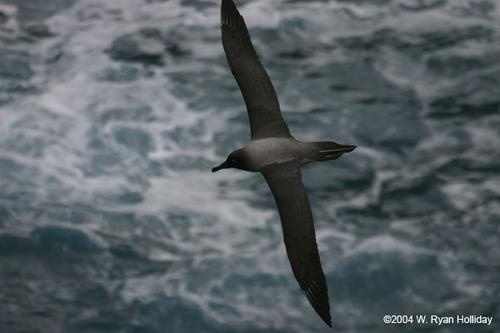bird: (215, 2, 361, 330)
